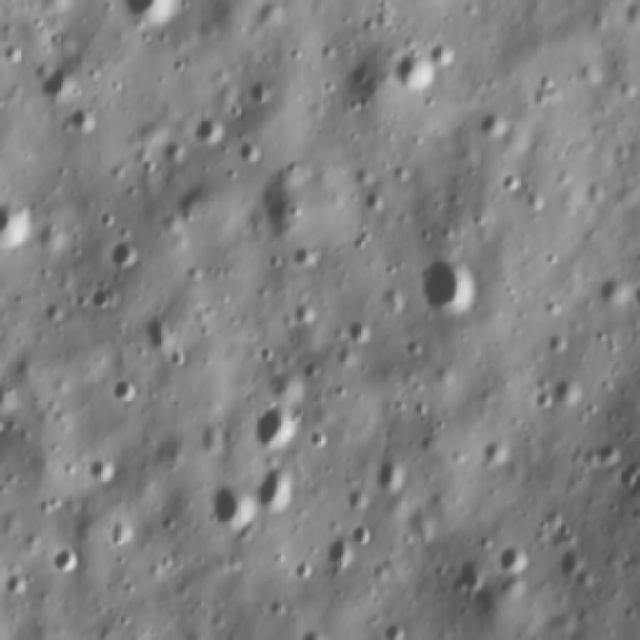crater: (416, 247, 486, 327), (251, 384, 309, 458), (251, 461, 309, 512), (383, 47, 435, 93), (212, 484, 254, 533), (76, 273, 121, 316), (494, 536, 537, 578), (185, 110, 229, 147), (47, 538, 84, 580), (594, 273, 632, 313), (544, 372, 579, 413), (105, 366, 141, 405), (106, 235, 143, 267), (473, 111, 510, 143)
